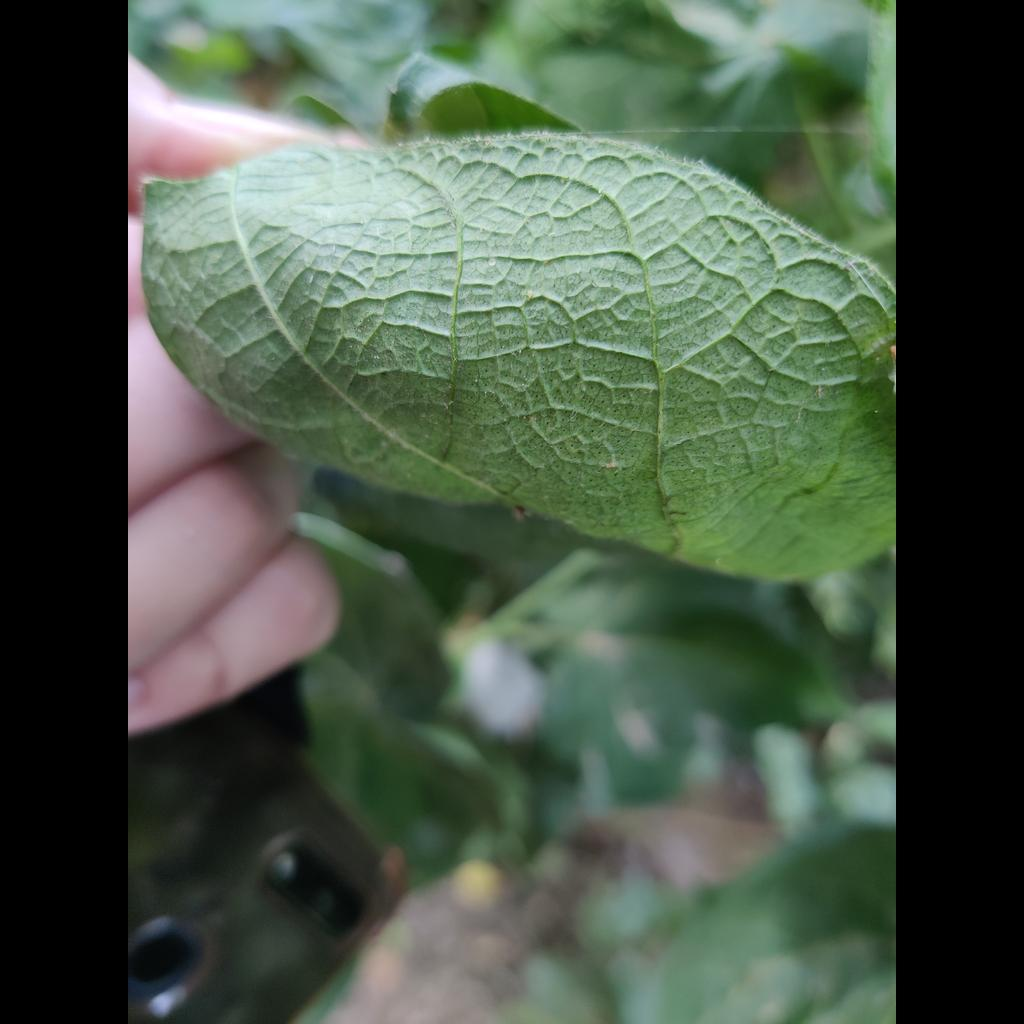nymph: (489, 259, 497, 266), (527, 289, 533, 298), (309, 274, 314, 284)
